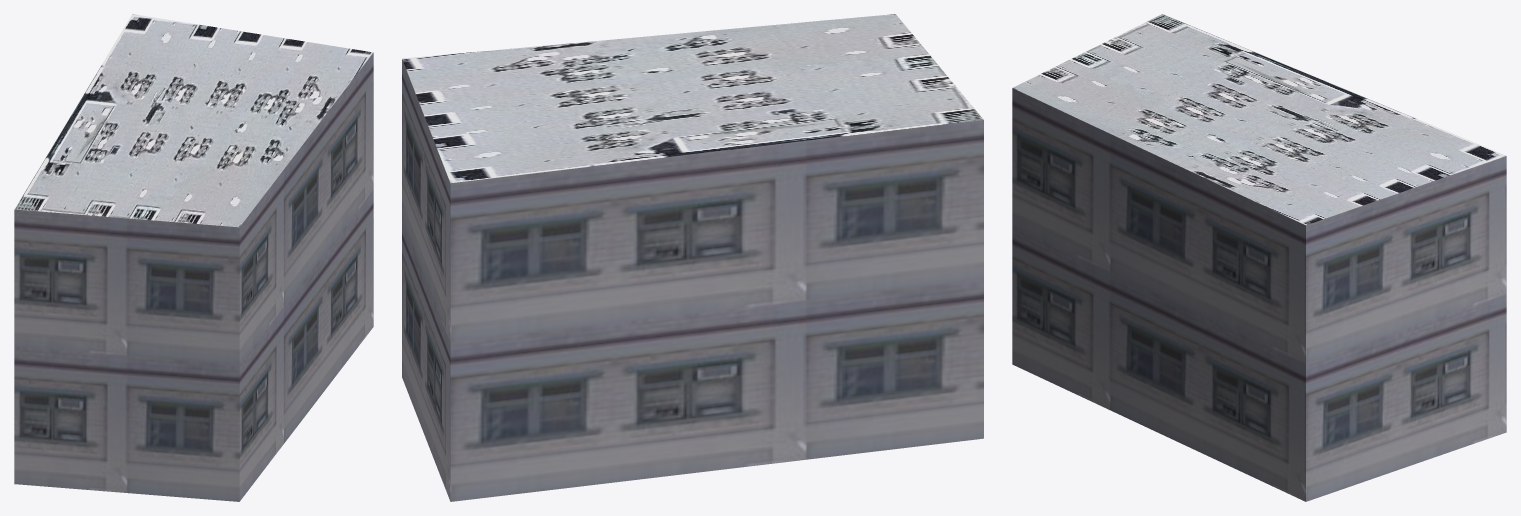
Rendered from ResTex__2772.fbx.
3 views of the same model, side by side, from view 1: azimuth 30°, elevation 25°; view 2: azimuth 150°, elevation 25°; view 3: azimuth 270°, elevation 25° (orthographic). The views are drawn at different scales.
Parts seen in each view (by area): view 1: CityEngineMaterial_1_m, CityEngineMaterial_8_m; view 2: CityEngineMaterial_1_m, CityEngineMaterial_8_m; view 3: CityEngineMaterial_1_m, CityEngineMaterial_8_m.
Boxes of the visible parts, left/top/right/bottom form: CityEngineMaterial_1_m: left=14, top=52, right=373, bottom=501; CityEngineMaterial_8_m: left=14, top=14, right=373, bottom=227; CityEngineMaterial_1_m: left=402, top=59, right=983, bottom=501; CityEngineMaterial_8_m: left=402, top=14, right=983, bottom=183; CityEngineMaterial_1_m: left=1012, top=88, right=1506, bottom=501; CityEngineMaterial_8_m: left=1013, top=14, right=1505, bottom=225.
Bounding box in the file's own units: 9.84 × 6 × 9.72.
Materials: 2 (2 with a texture image).
